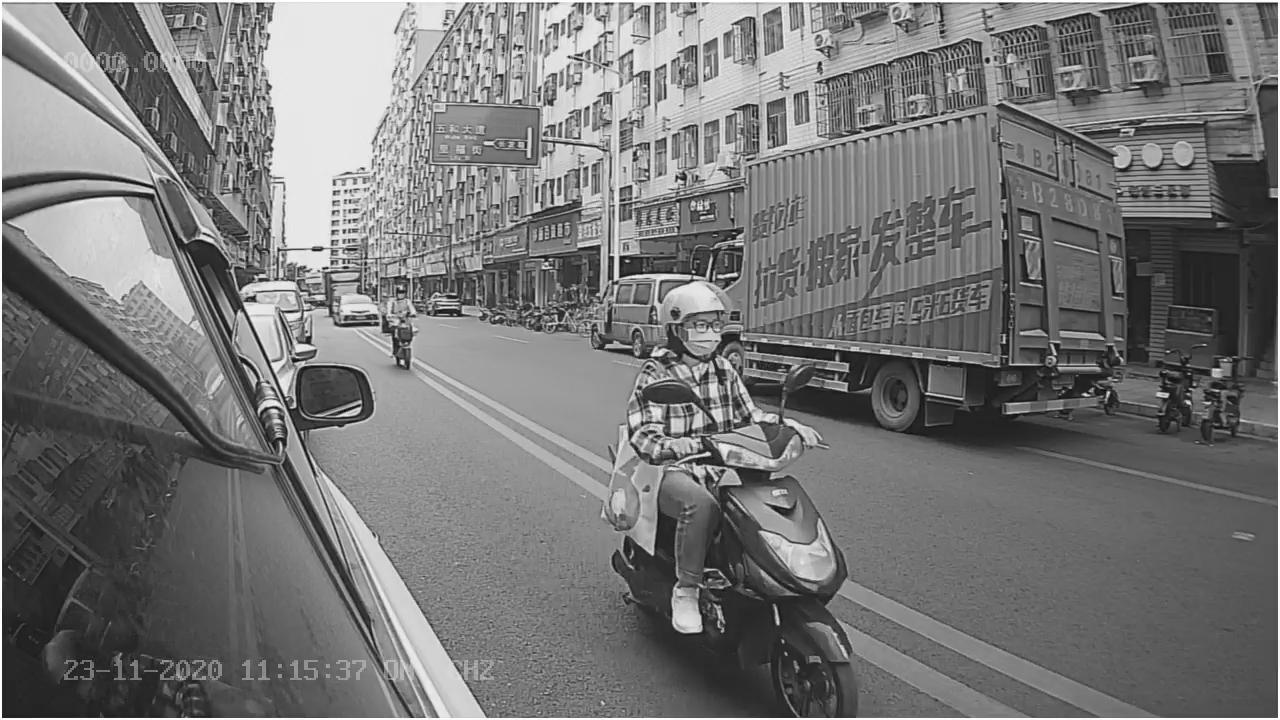person: (618, 283, 817, 442)
